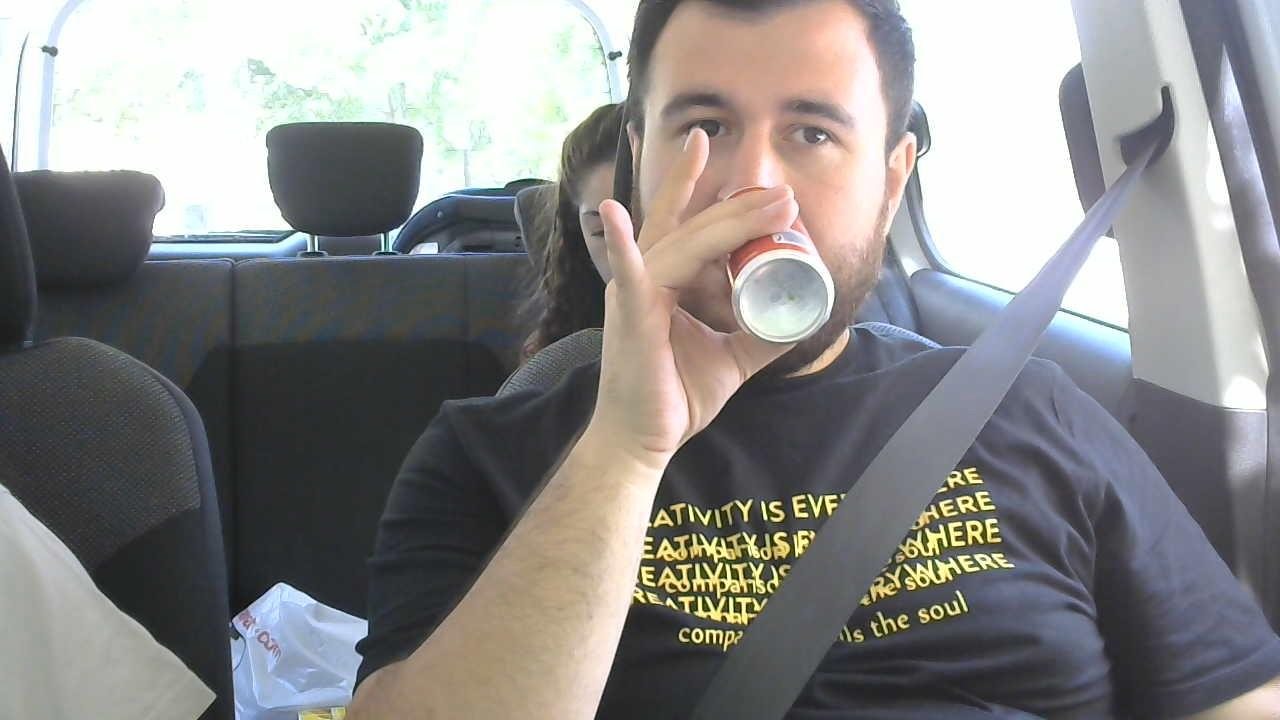Drinking: (717, 183, 839, 346)
